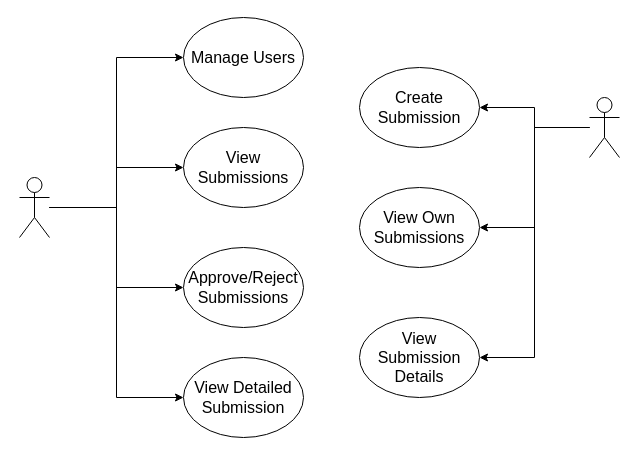
This 637x455 diagram has some shape labels left out. The shapes that lost their labels are listed below. From the top down, each one's box as (x1, y1, x2, y2) in pixels, then its label:
(588, 96, 620, 158): User
(18, 176, 50, 238): Admin
